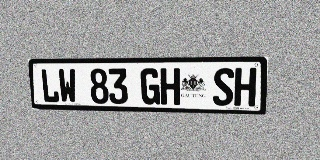3: (108, 68, 128, 104)
8: (89, 68, 109, 104)
G: (140, 68, 160, 105)
H: (234, 68, 257, 106), (160, 68, 180, 105)
L: (40, 69, 60, 103)
S: (213, 68, 234, 106)
W: (58, 69, 77, 103)
